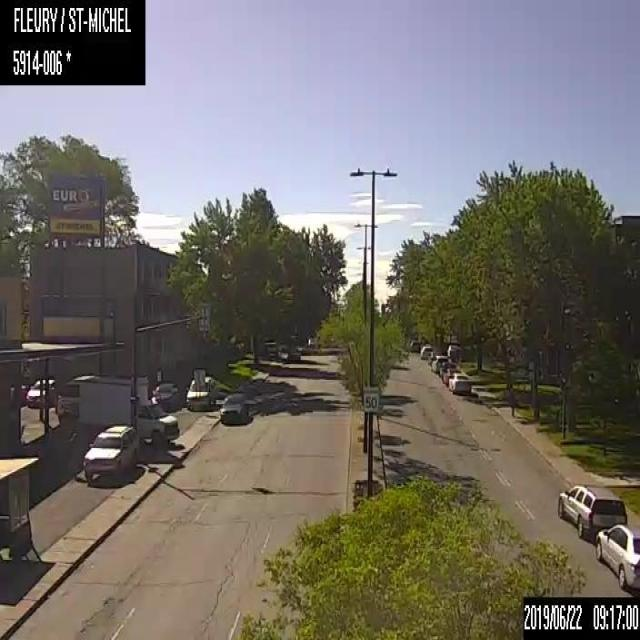vehicle: (77, 376, 179, 450), (557, 482, 626, 542), (82, 424, 138, 484), (595, 522, 639, 588), (54, 374, 100, 425), (185, 376, 218, 410), (25, 378, 57, 407), (220, 392, 248, 424), (154, 382, 182, 412), (448, 371, 472, 394), (442, 366, 461, 386), (431, 354, 446, 374), (420, 344, 433, 360)
